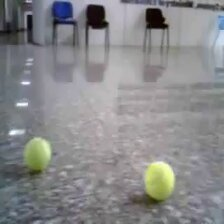tennis: (144, 161, 174, 200), (24, 136, 49, 169)
